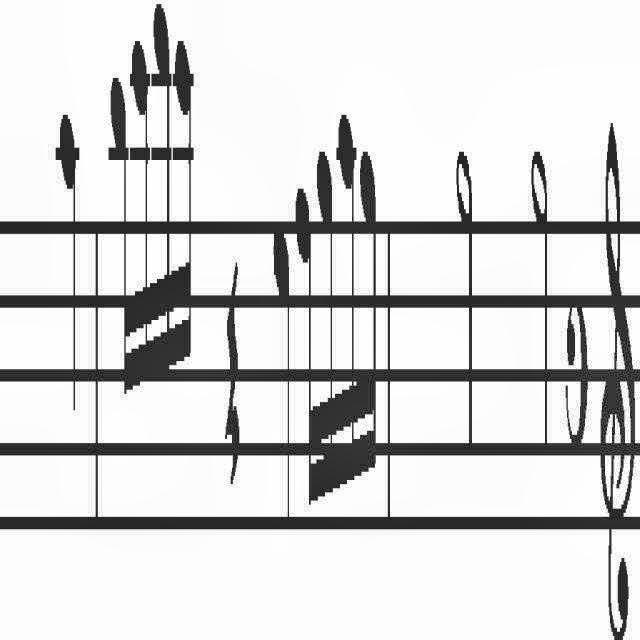Bass-clef: (600, 106, 636, 640)
Half-note: (529, 138, 551, 462), (455, 148, 475, 462)
Quarter-note: (58, 105, 78, 423), (272, 222, 292, 534)
Quarter-rest: (224, 264, 240, 492)
Sixteenth-note: (152, 0, 174, 386), (338, 107, 358, 487), (294, 178, 316, 516), (131, 34, 151, 392), (109, 79, 131, 402), (316, 152, 336, 504), (174, 29, 194, 379), (359, 150, 376, 487)
